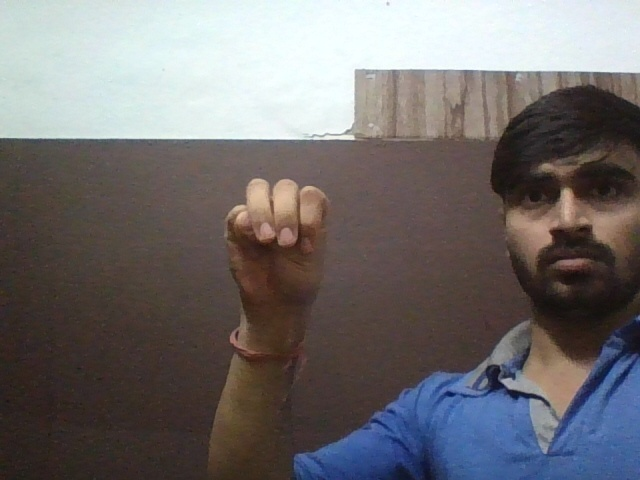M: (204, 175, 350, 325)
